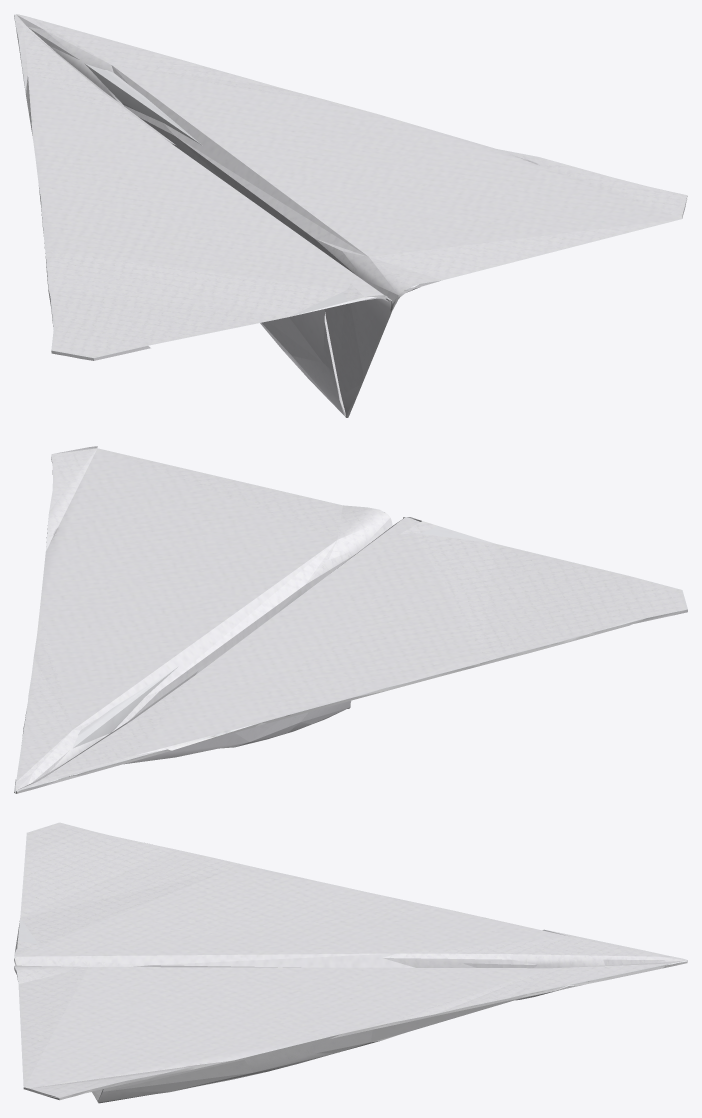
The model's file is Paper_airplane.glb.
3 views of the same model, one above another, from view 1: azimuth 30°, elevation 25°; view 2: azimuth 150°, elevation 25°; view 3: azimuth 270°, elevation 25° (orthographic). The views are drawn at different scales.
Size of the model in its own units: 1.84 by 0.4475 by 1.91.
Materials: 1 (1 with a texture image).
